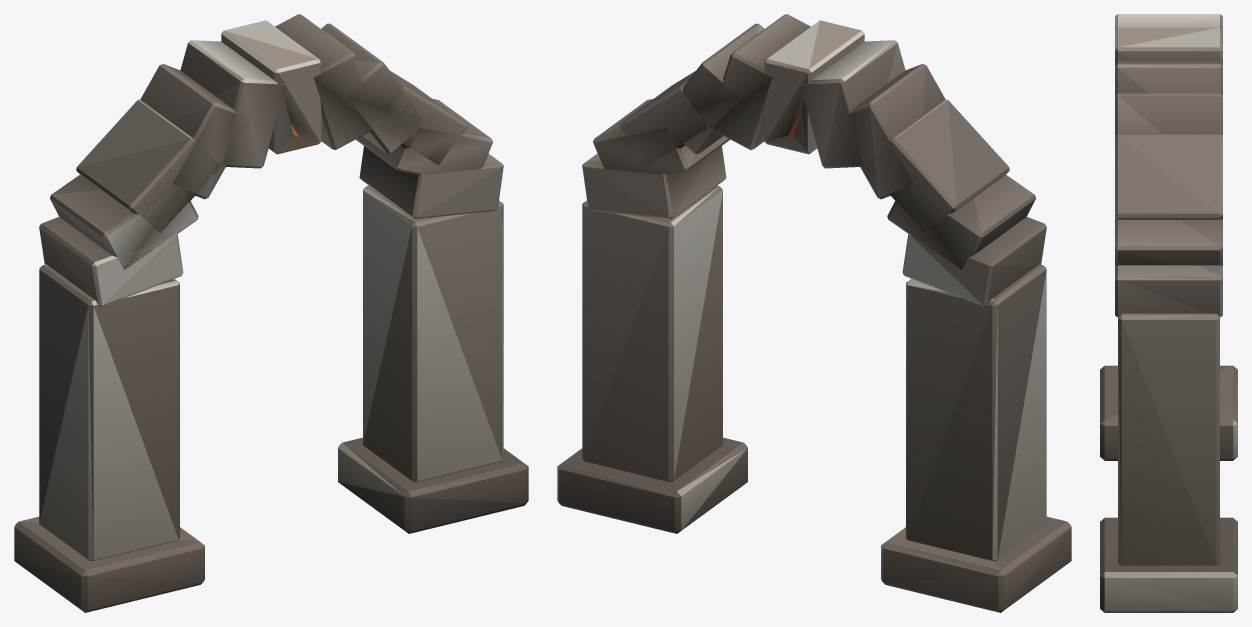
File: abyss_arch.glb
The picture shows the model from 3 angles, left to right: view 1: azimuth 30°, elevation 25°; view 2: azimuth 150°, elevation 25°; view 3: azimuth 270°, elevation 25°; orthographic projection. The views are drawn at different scales.
Parts seen in each view (by area): view 1: ca_abyss_arch; view 2: ca_abyss_arch; view 3: ca_abyss_arch.
Boxes of the visible parts, x1=… form: ca_abyss_arch: x1=14, y1=14, x2=528, y2=612; ca_abyss_arch: x1=557, y1=14, x2=1071, y2=612; ca_abyss_arch: x1=1100, y1=14, x2=1237, y2=612.
Bounding box in the file's own units: 4.22 × 4.41 × 1.17.
Materials: 1 (1 with a texture image).
